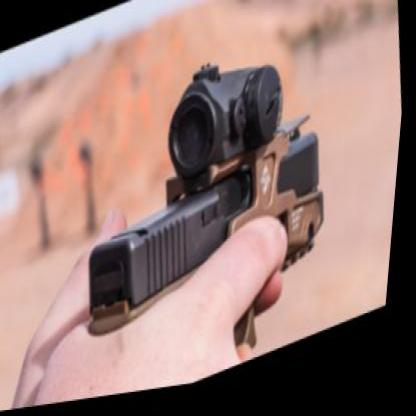pistol: (62, 124, 347, 389)
